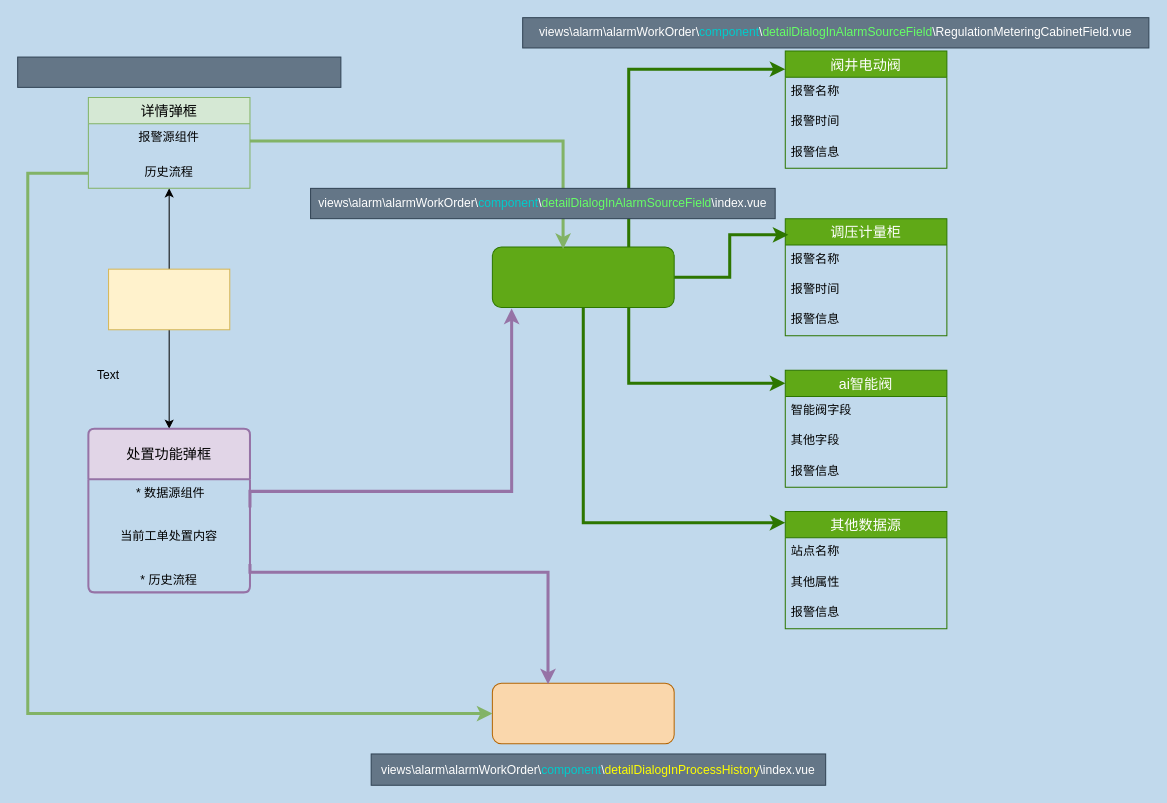
The diagram is 1167 pixels wide and 803 high, and some of its shapes have lost their labels. The shapes that lost their labels are listed below. From the top down, each one's centre as x and y in pixels, then its label:
the point at 179,71: views\alarm\alarmWorkOrder\ component \detailDialog.vue
the point at 582,277: 数据源转发组件 通过报警类型转换到对应的数据源展示字段
the point at 169,299: 处置功能列表页面
the point at 582,713: 历史流程组件
